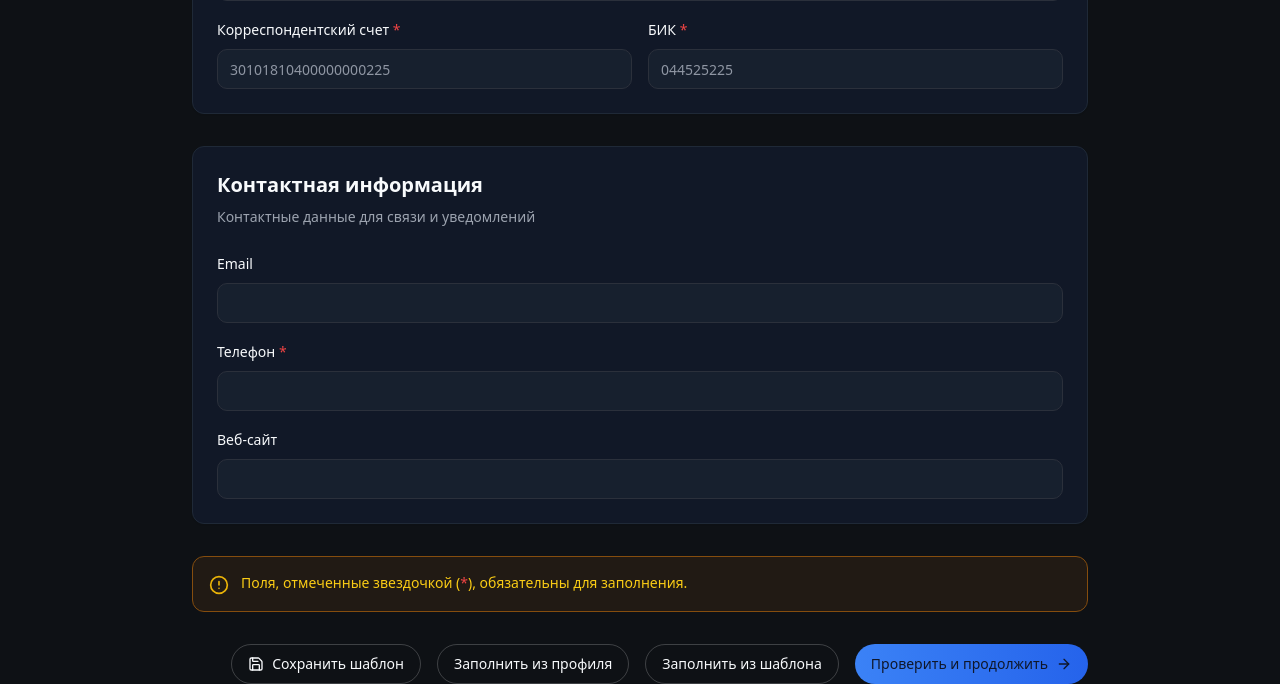
Scenario: Step1CompanyForm › показывает ошибку при попытке продолжить с пустыми обязательными полями
This screenshot has width=1280, height=684.
(page scrolled)
Step 1. Click the button "Проверить и продолжить" → (971, 664), box [855, 644, 1088, 683]
(page scrolled)
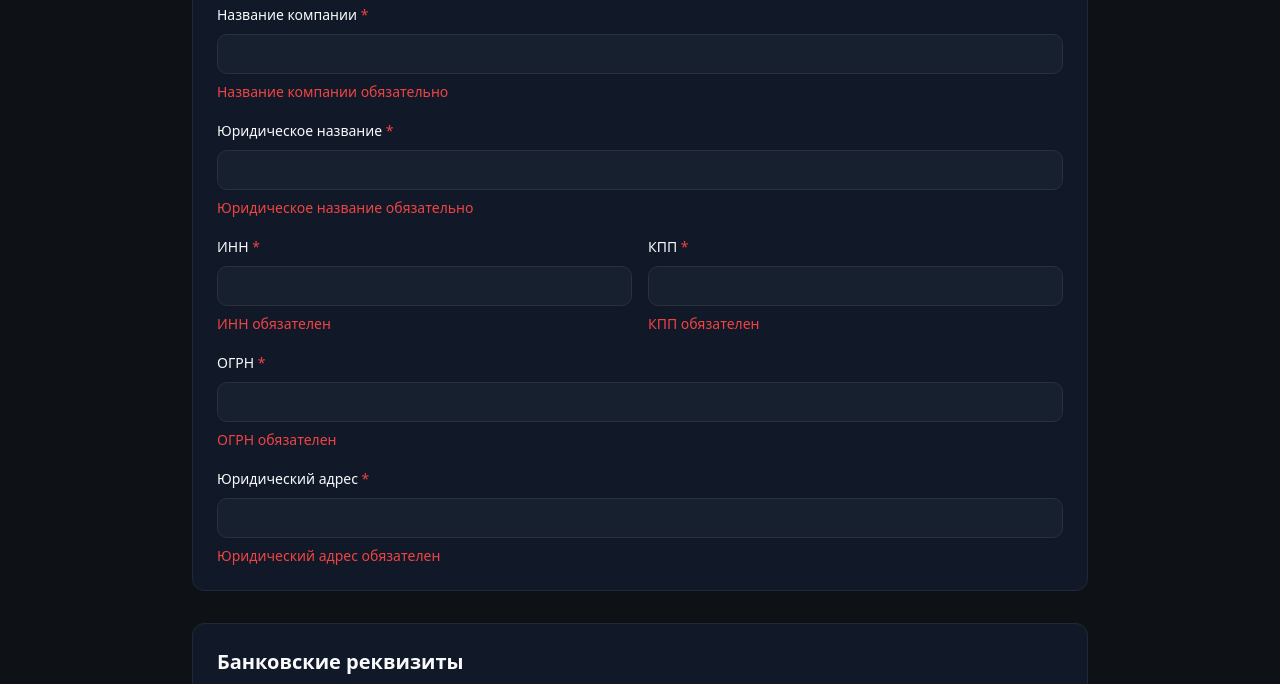
Result: the text "Название компании обязательно" is shown at [217, 82, 448, 101]
Result: the text "ИНН обязателен" is shown at [217, 314, 331, 333]
